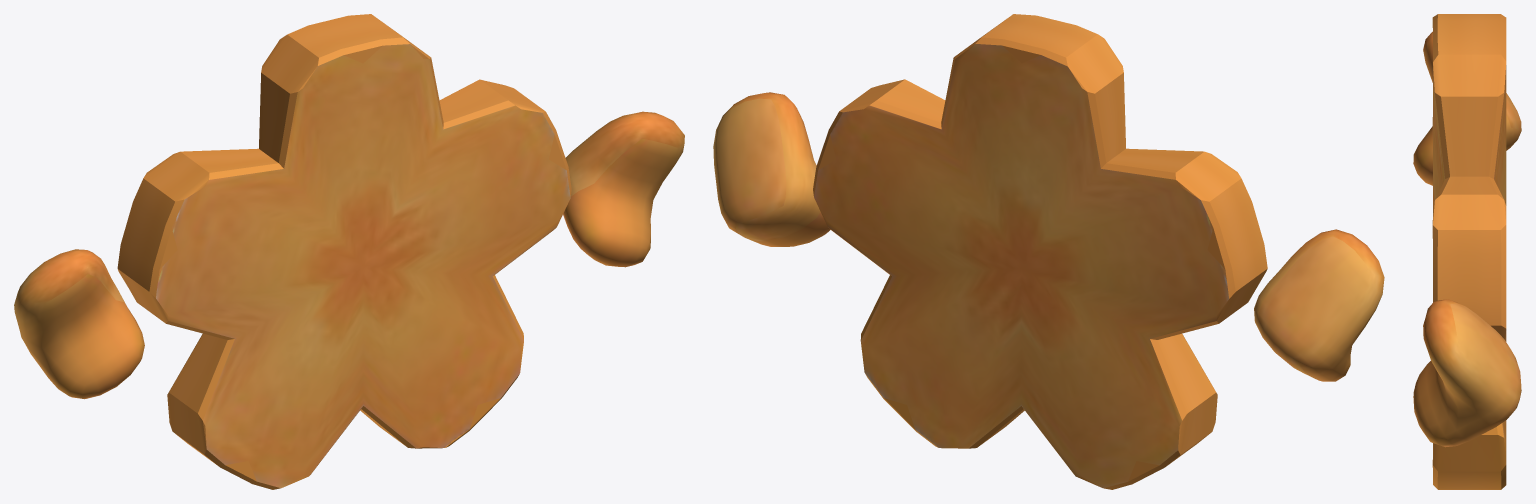
The model's file is carrot.fbx.
3 views of the same model, side by side, from view 1: azimuth 30°, elevation 25°; view 2: azimuth 150°, elevation 25°; view 3: azimuth 270°, elevation 25° (orthographic).
Parts seen in each view (by area): view 1: body, hand_R, hand_L; view 2: body, hand_L, hand_R; view 3: body, hand_L, hand_R.
Boxes of the visible parts, x1,y1,x2,y2 form: body: (117,14,571,489); hand_R: (14,249,144,399); hand_L: (563,111,684,267); body: (813,14,1267,489); hand_L: (713,92,830,246); hand_R: (1254,229,1384,381); body: (1432,14,1506,489); hand_L: (1413,299,1521,447); hand_R: (1413,31,1521,185).
Size of the model in its own units: 3.95 by 2.42 by 0.567.
